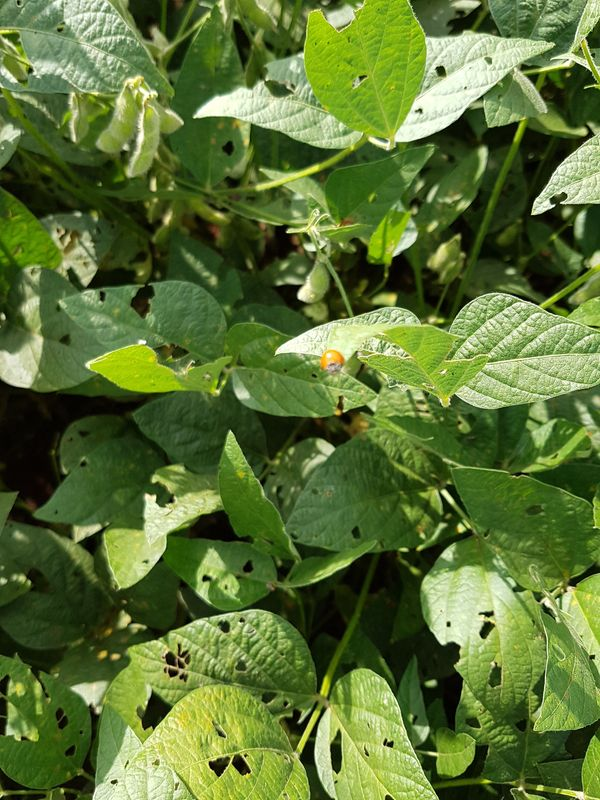Coccinellidae: (316, 346, 349, 378)
